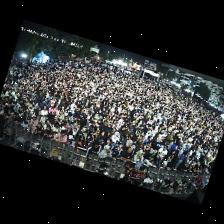person: (85, 142, 101, 164), (148, 134, 162, 156), (155, 146, 167, 166), (75, 135, 86, 153), (119, 147, 132, 161), (176, 151, 187, 167), (134, 125, 145, 141), (54, 131, 67, 143), (41, 125, 53, 138), (99, 146, 112, 158), (143, 153, 154, 166), (86, 130, 95, 145), (134, 142, 144, 155), (50, 115, 61, 126), (96, 131, 105, 144), (111, 146, 119, 160), (112, 132, 120, 146), (125, 126, 134, 138), (177, 159, 186, 171), (134, 151, 143, 163), (52, 123, 61, 135), (40, 114, 48, 127), (102, 138, 112, 148), (122, 135, 131, 146), (13, 114, 22, 125), (22, 116, 29, 130), (115, 141, 122, 155), (73, 130, 81, 142), (162, 156, 170, 168), (123, 141, 133, 150), (30, 115, 38, 126), (64, 125, 72, 136), (116, 119, 124, 130), (43, 120, 52, 129), (67, 135, 75, 145), (49, 103, 56, 114), (35, 123, 42, 134), (178, 147, 185, 158), (72, 123, 78, 135), (27, 124, 35, 133), (8, 113, 15, 123), (57, 110, 64, 120), (195, 148, 201, 159), (121, 175, 130, 182), (199, 165, 206, 173), (94, 126, 99, 137), (42, 106, 48, 115), (18, 107, 23, 117), (37, 112, 42, 122), (61, 122, 67, 130), (82, 128, 87, 137)
